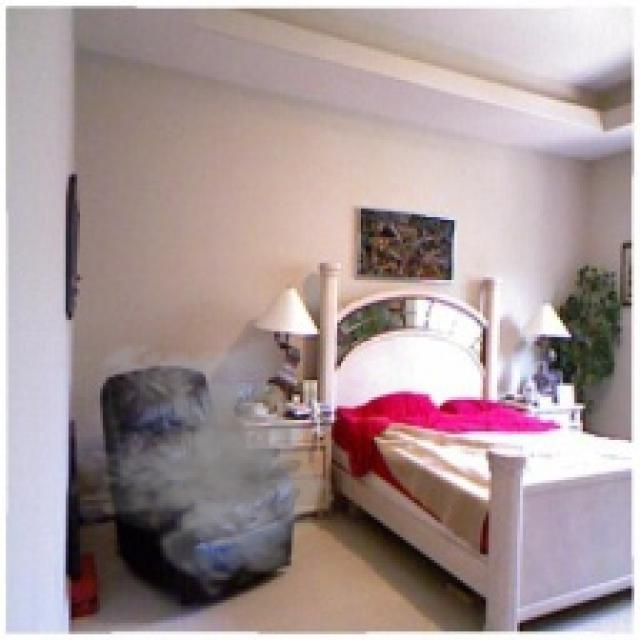Smoke: (66, 337, 337, 600)
